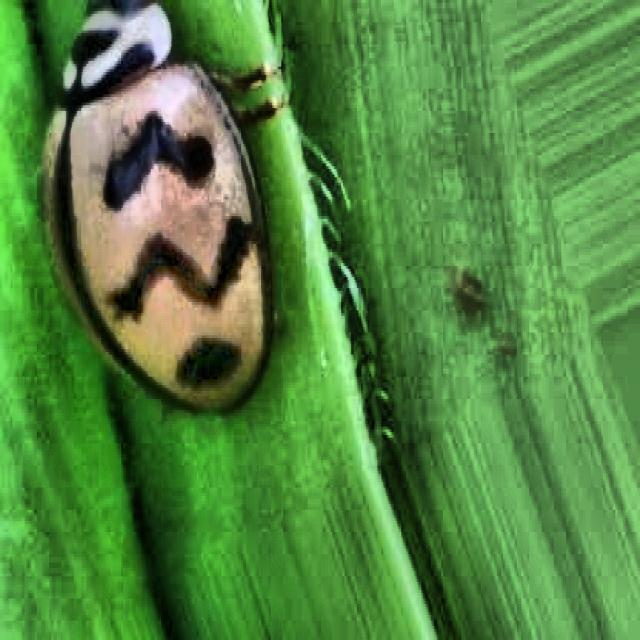Asian-Lady-beetle: (27, 0, 322, 415)
